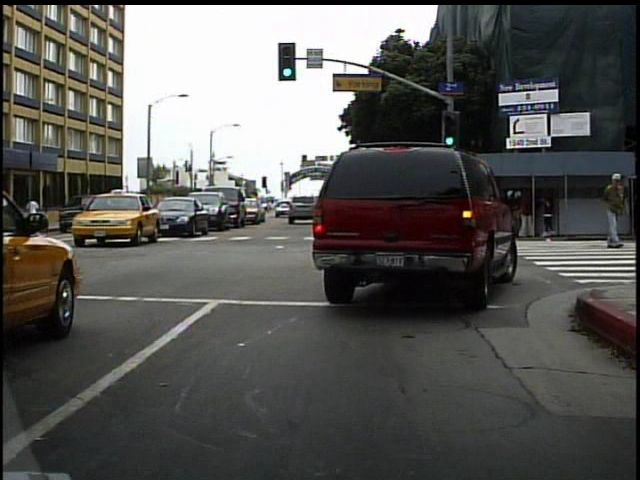person: (599, 166, 630, 255), (24, 194, 42, 231)
